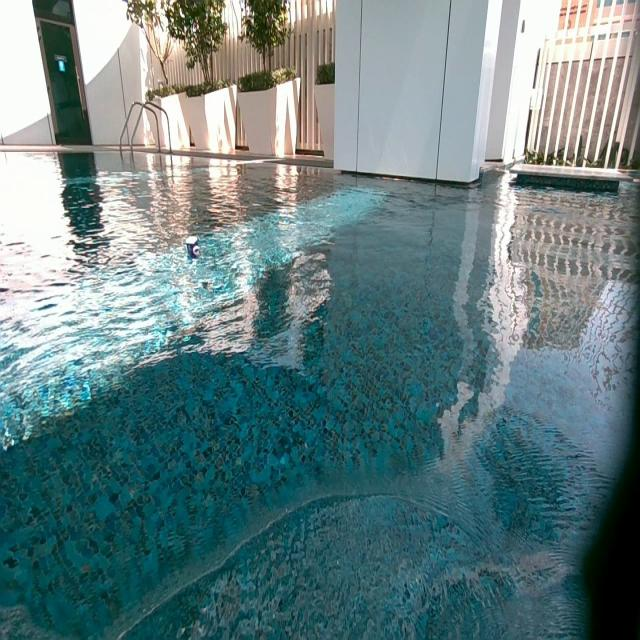Cans: (186, 240, 200, 257)
